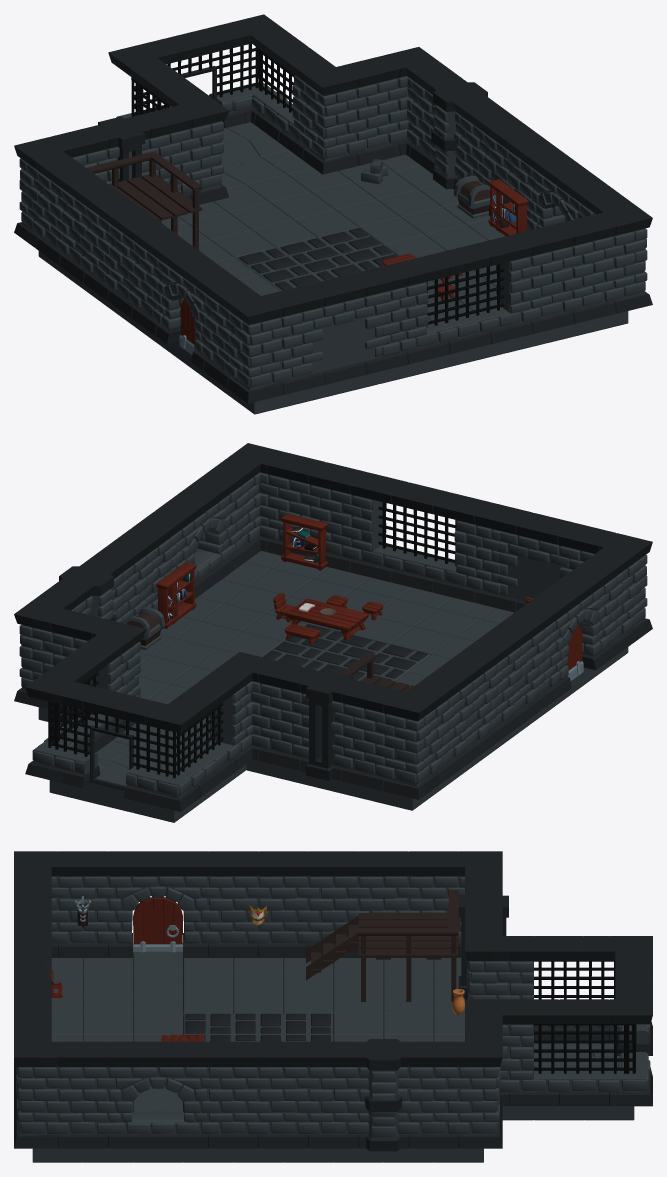
File: dungeon.glb
The picture shows the model from 3 angles, top to bottom: view 1: azimuth 30°, elevation 25°; view 2: azimuth 150°, elevation 25°; view 3: azimuth 270°, elevation 25°; orthographic projection. The views are drawn at different scales.
Visible parts, largest first — view 1: mergedBlocks(Clone); view 2: mergedBlocks(Clone); view 3: mergedBlocks(Clone).
Boxes of the visible parts, x1,y1,x2,y2 form: mergedBlocks(Clone): (14, 14, 652, 414); mergedBlocks(Clone): (14, 443, 652, 822); mergedBlocks(Clone): (14, 851, 652, 1162).
Size of the model in its own units: 19.84 by 5 by 25.5.
